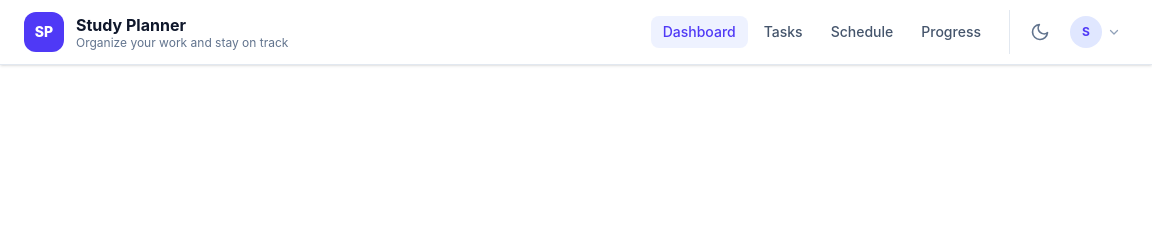
Test: Navbar › closes the dropdown when clicked again
This screenshot has width=1152, height=250.
Click the button named "Account menu": (1095, 32) [1062,10,1128,54]
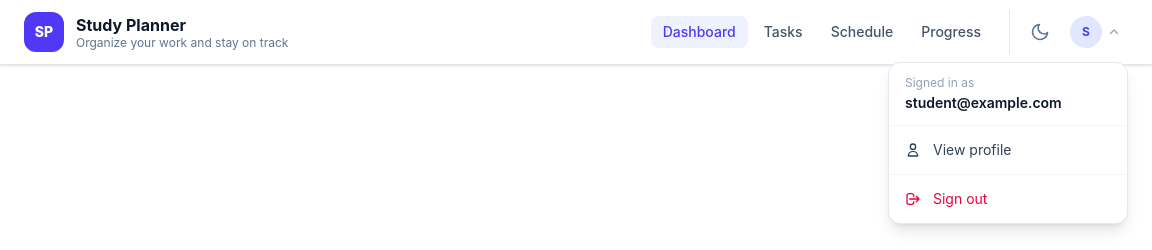
Check: the menu is shown, box [888,62,1128,224]
Click the button named "Account menu": (1095, 32) [1062,10,1128,54]
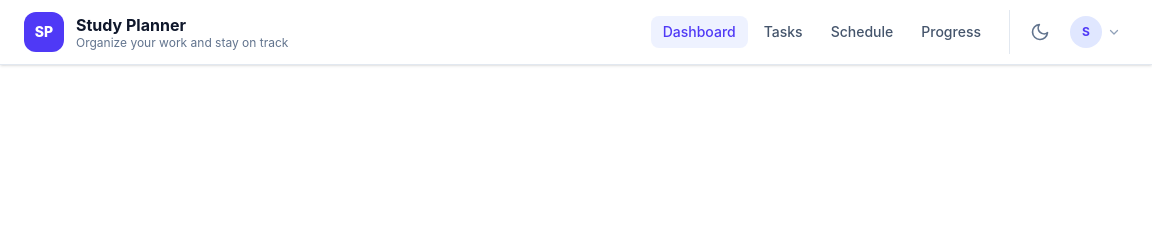
Check: the menu is gone
